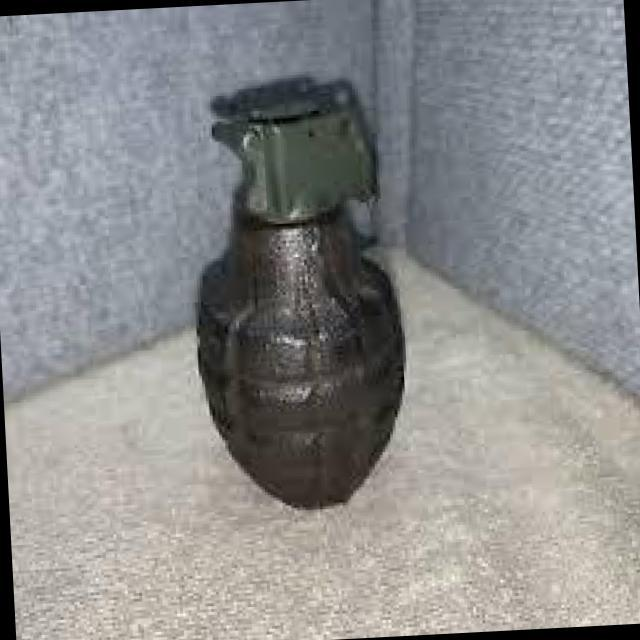grenade: (180, 62, 417, 522)
